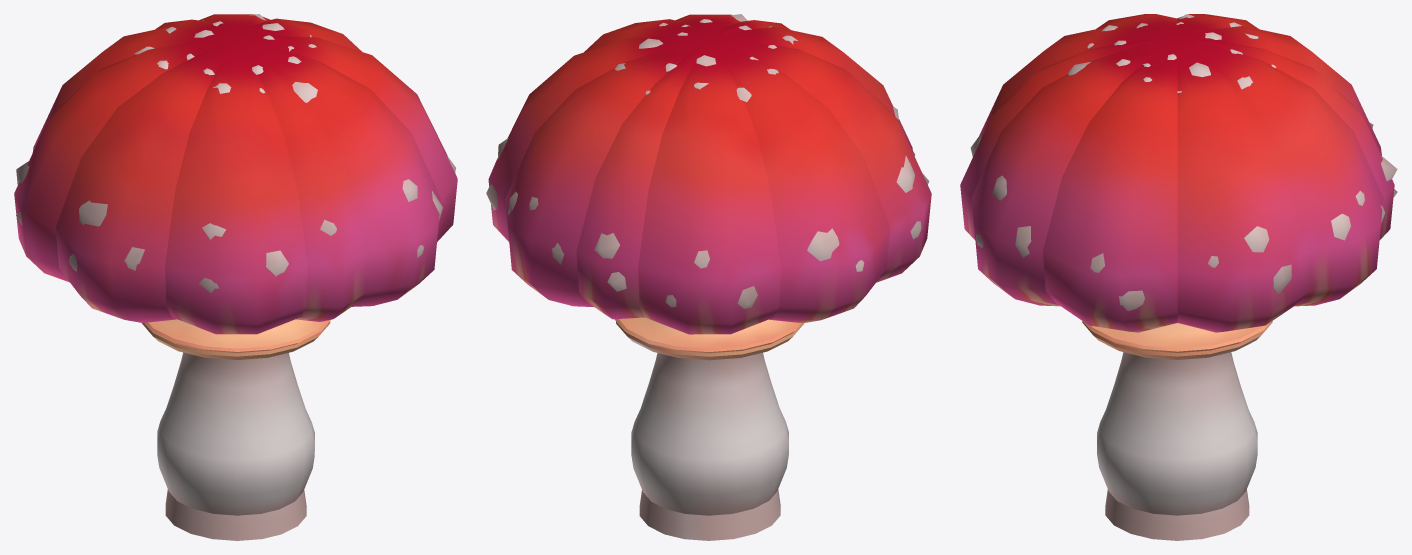
File: Interaction_mushroom_2.fbx
3 renders of one model, left to right at view 1: azimuth 30°, elevation 25°; view 2: azimuth 150°, elevation 25°; view 3: azimuth 270°, elevation 25°, orthographic.
Visible parts, largest first — view 1: Object001, Cylinder002; view 2: Object001, Cylinder002; view 3: Object001, Cylinder002.
Part boxes in pixels (x1,y1,x2,y2): Object001: [14, 14, 457, 334]; Cylinder002: [16, 14, 455, 540]; Object001: [488, 14, 931, 334]; Cylinder002: [486, 14, 929, 540]; Object001: [960, 14, 1394, 332]; Cylinder002: [970, 14, 1397, 540].
Bounding box in the file's own units: 3.12 × 3.72 × 3.13.
